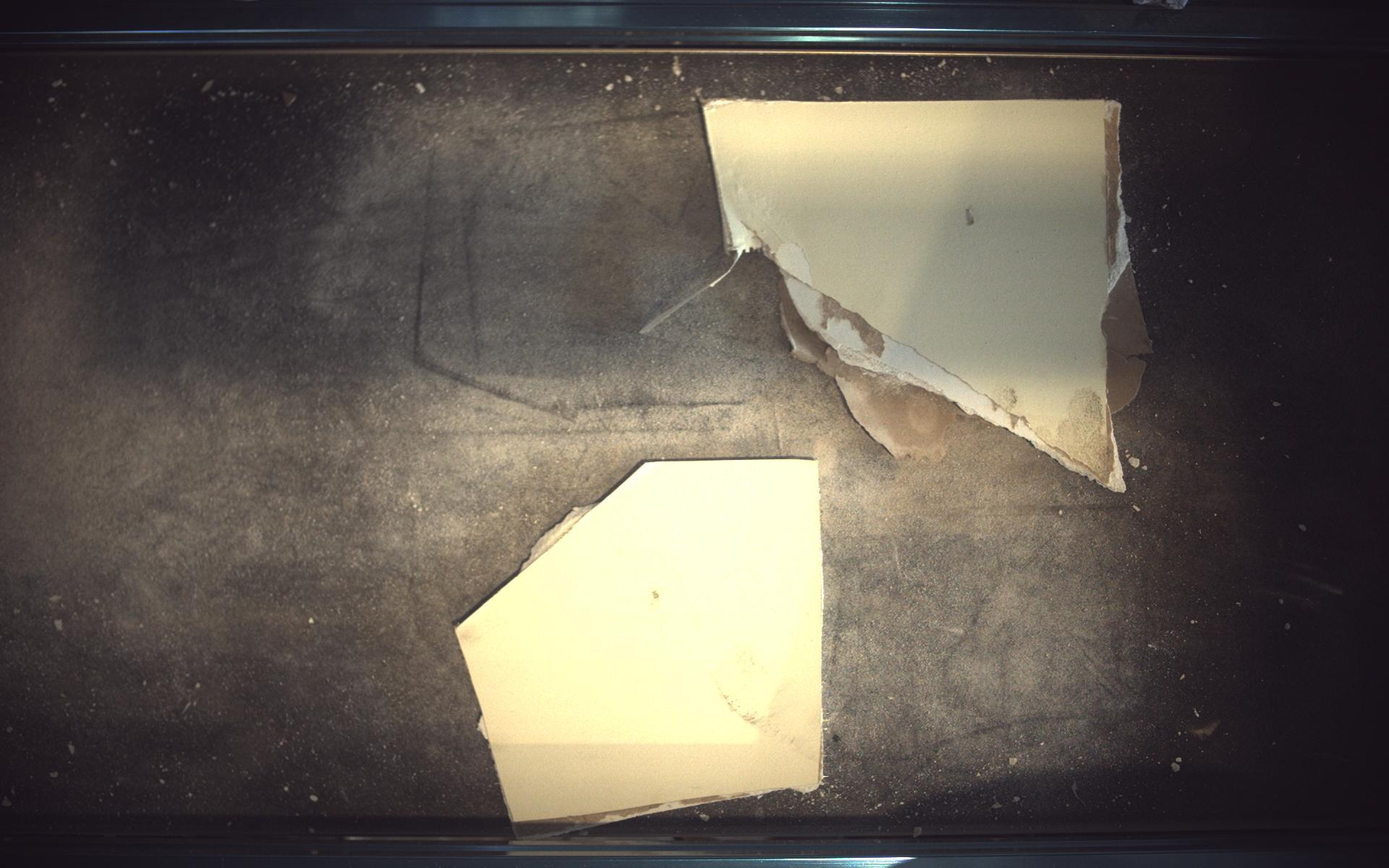gypsum_board: (697, 105, 1145, 498), (456, 459, 824, 835)
